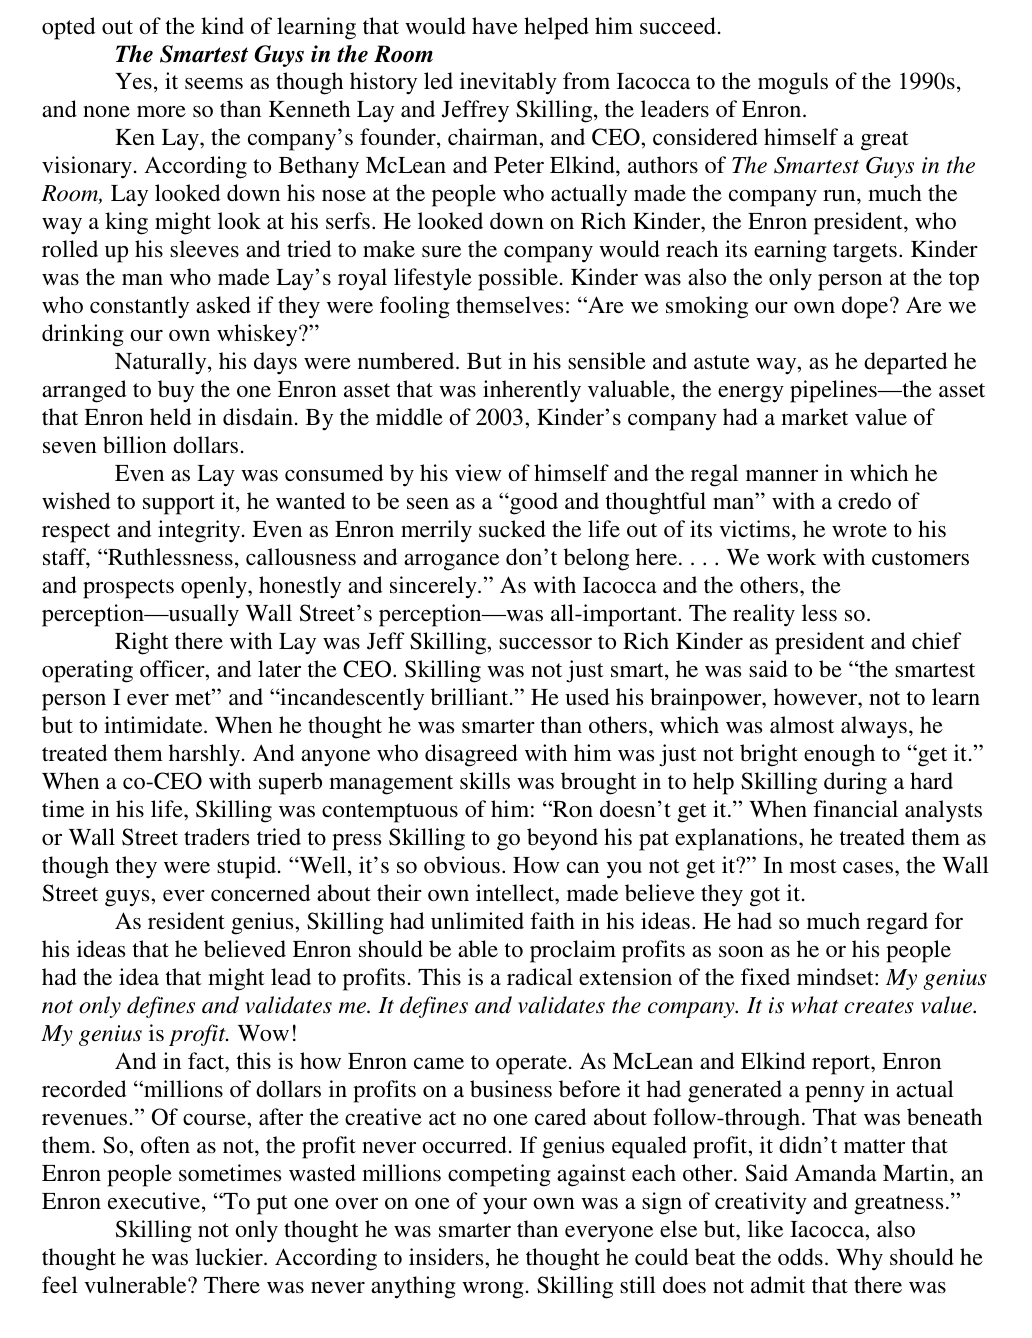latin: (40, 68, 984, 353), (36, 631, 990, 909), (41, 458, 973, 633), (38, 1052, 986, 1215), (30, 910, 989, 1044), (33, 353, 986, 458), (33, 1217, 982, 1300), (37, 14, 723, 42), (113, 40, 436, 68)
